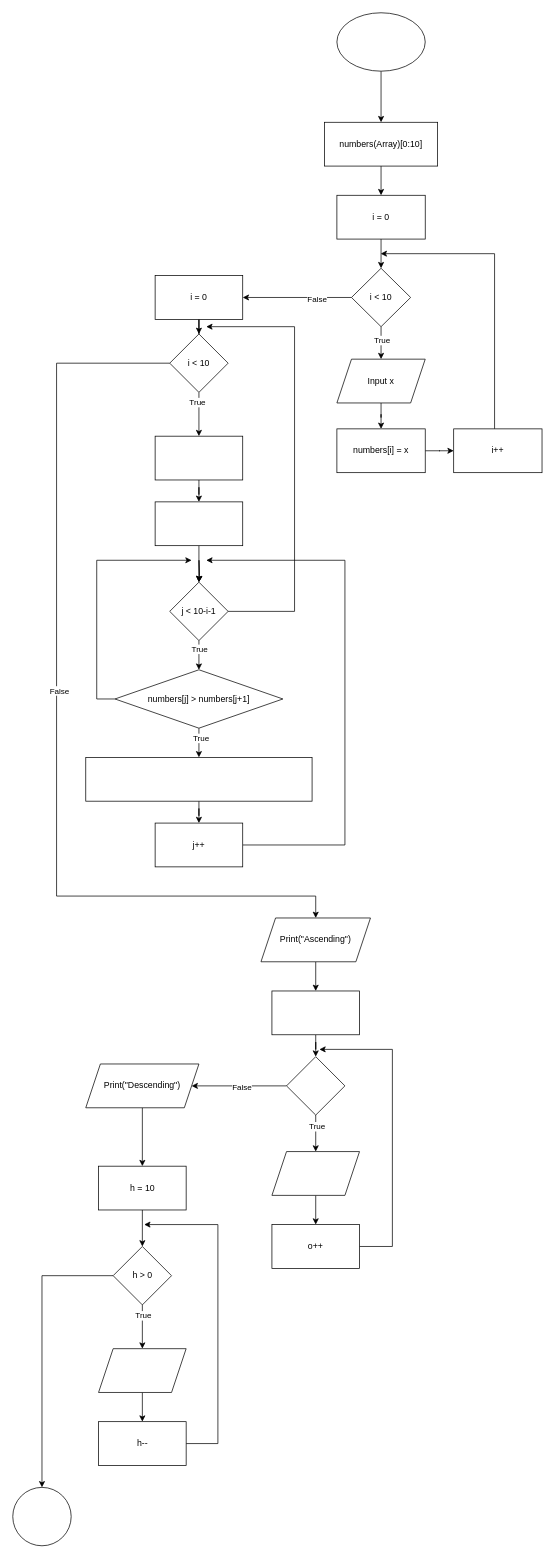
Some shapes in this 555 by 1559 pixel diagram are drawn without their labels. Here are the shapes that lost their labels. From the top down, the centre of each, then its label:
point (380, 41): Start
point (198, 457): j = 0
point (198, 523): i ++
point (198, 779): numbers[j], numbers[j+1] = numbers[j+1], numbers[j]
point (315, 1012): o = 0
point (315, 1085): o < 10
point (315, 1173): Print(numbers[o])
point (142, 1370): Print(numbers[h])
point (41, 1516): Finish
